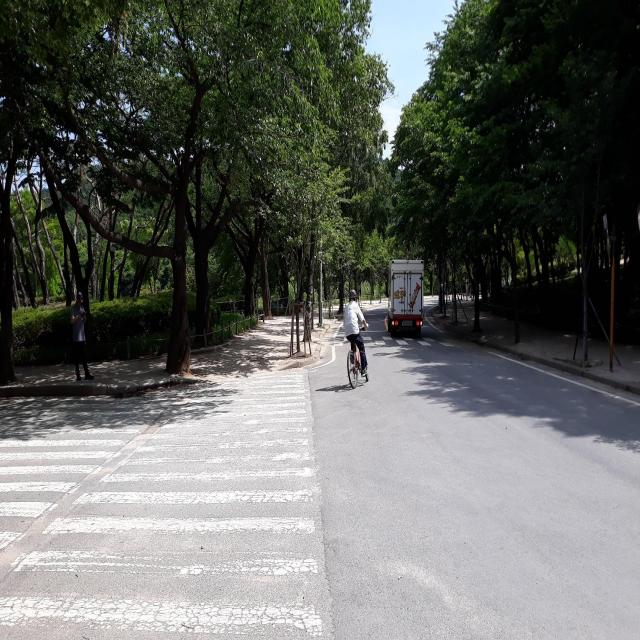횡단보도: (0, 370, 324, 640)
